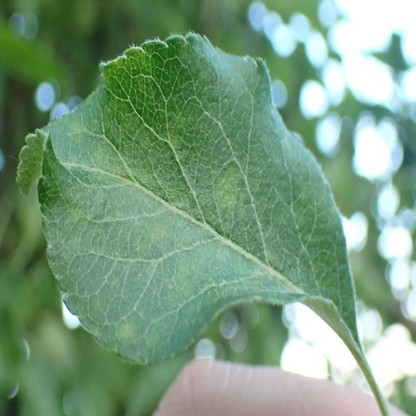scab: (167, 242, 222, 297), (81, 148, 128, 178), (214, 166, 239, 203), (134, 224, 166, 250), (145, 317, 170, 346), (117, 321, 137, 340), (67, 121, 81, 136), (70, 208, 84, 221), (168, 135, 180, 148)
